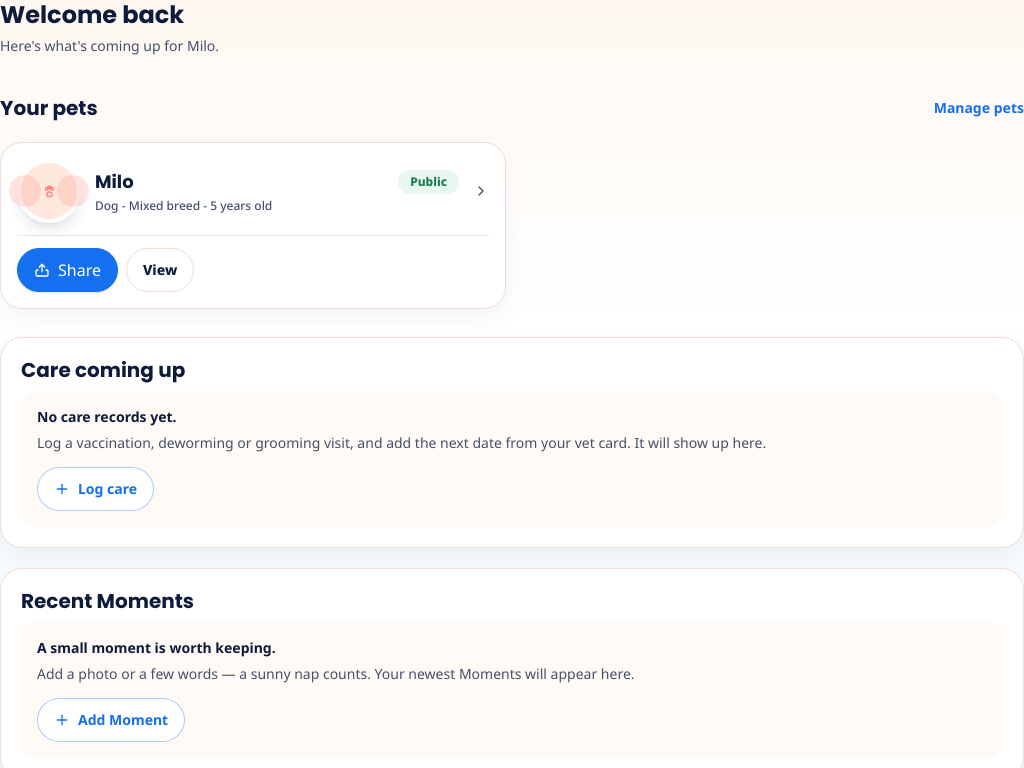
Scenario: Share Pet Card availability › is offered from the Dashboard pet card for an eligible public pet
Step 1. Click the button "Share" → point(68, 270), box [17,248,118,292]
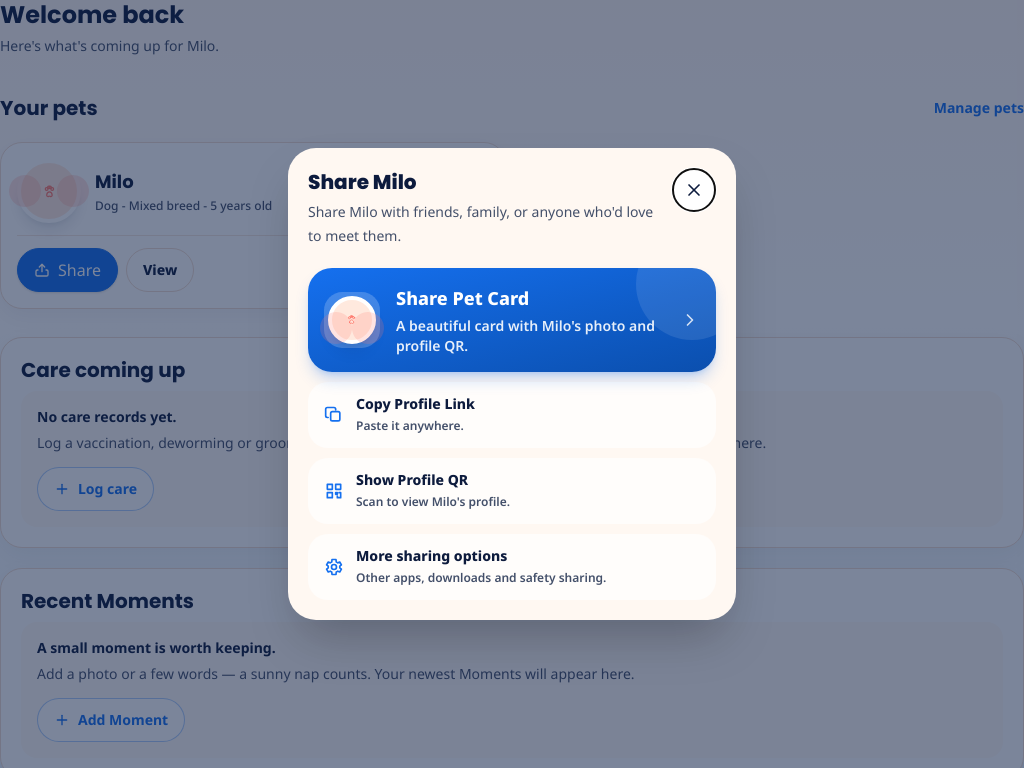
Expected: the button "Share Pet Card" is shown, [308,268,716,372]
